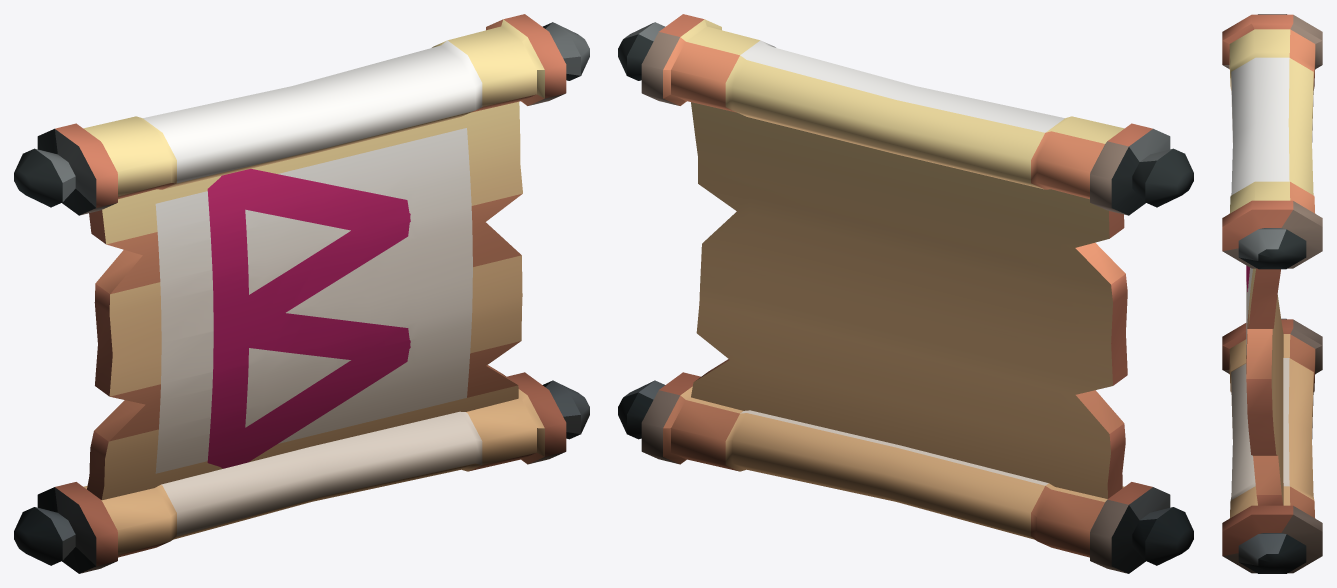
Rendered from scroll_magenta_berkano.glb.
3 views of the same model, side by side, from view 1: azimuth 30°, elevation 25°; view 2: azimuth 150°, elevation 25°; view 3: azimuth 270°, elevation 25° (orthographic). The views are drawn at different scales.
Visible parts, largest first — view 1: Item; view 2: Item; view 3: Item.
Boxes of the visible parts, x1,y1,x2,y2 form: Item: (14, 14, 589, 573); Item: (618, 14, 1193, 573); Item: (1222, 14, 1322, 573).
Bounding box in the file's own units: 0.88 × 0.64 × 0.1595.
Materials: 2 (2 with a texture image).
